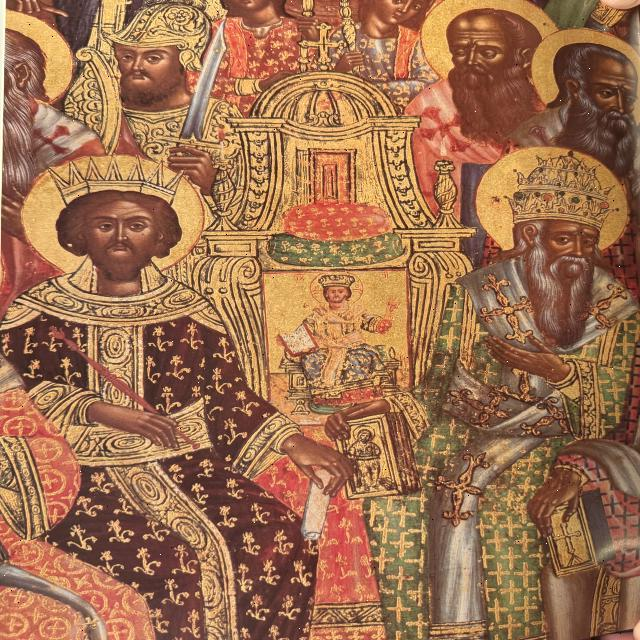aura: (22, 153, 214, 277), (469, 144, 640, 264), (420, 1, 560, 82), (536, 28, 635, 117), (307, 272, 366, 308)
book: (337, 411, 423, 493), (276, 324, 320, 360)
crown: (503, 154, 615, 226), (41, 155, 193, 203)
saint: (2, 154, 347, 640), (393, 148, 640, 634), (409, 2, 553, 175), (541, 27, 640, 157)
scepter: (50, 324, 210, 452)
scroll: (294, 464, 348, 548)
shield: (60, 46, 126, 146)
sword: (157, 20, 239, 156)
